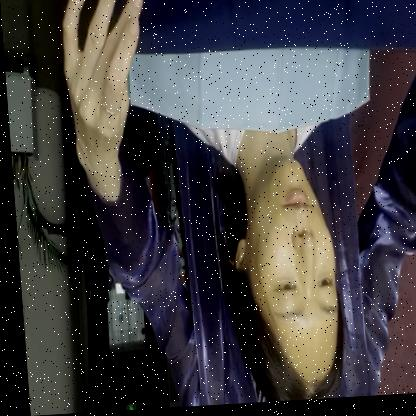streamer: (57, 0, 416, 413), (123, 0, 386, 410)
